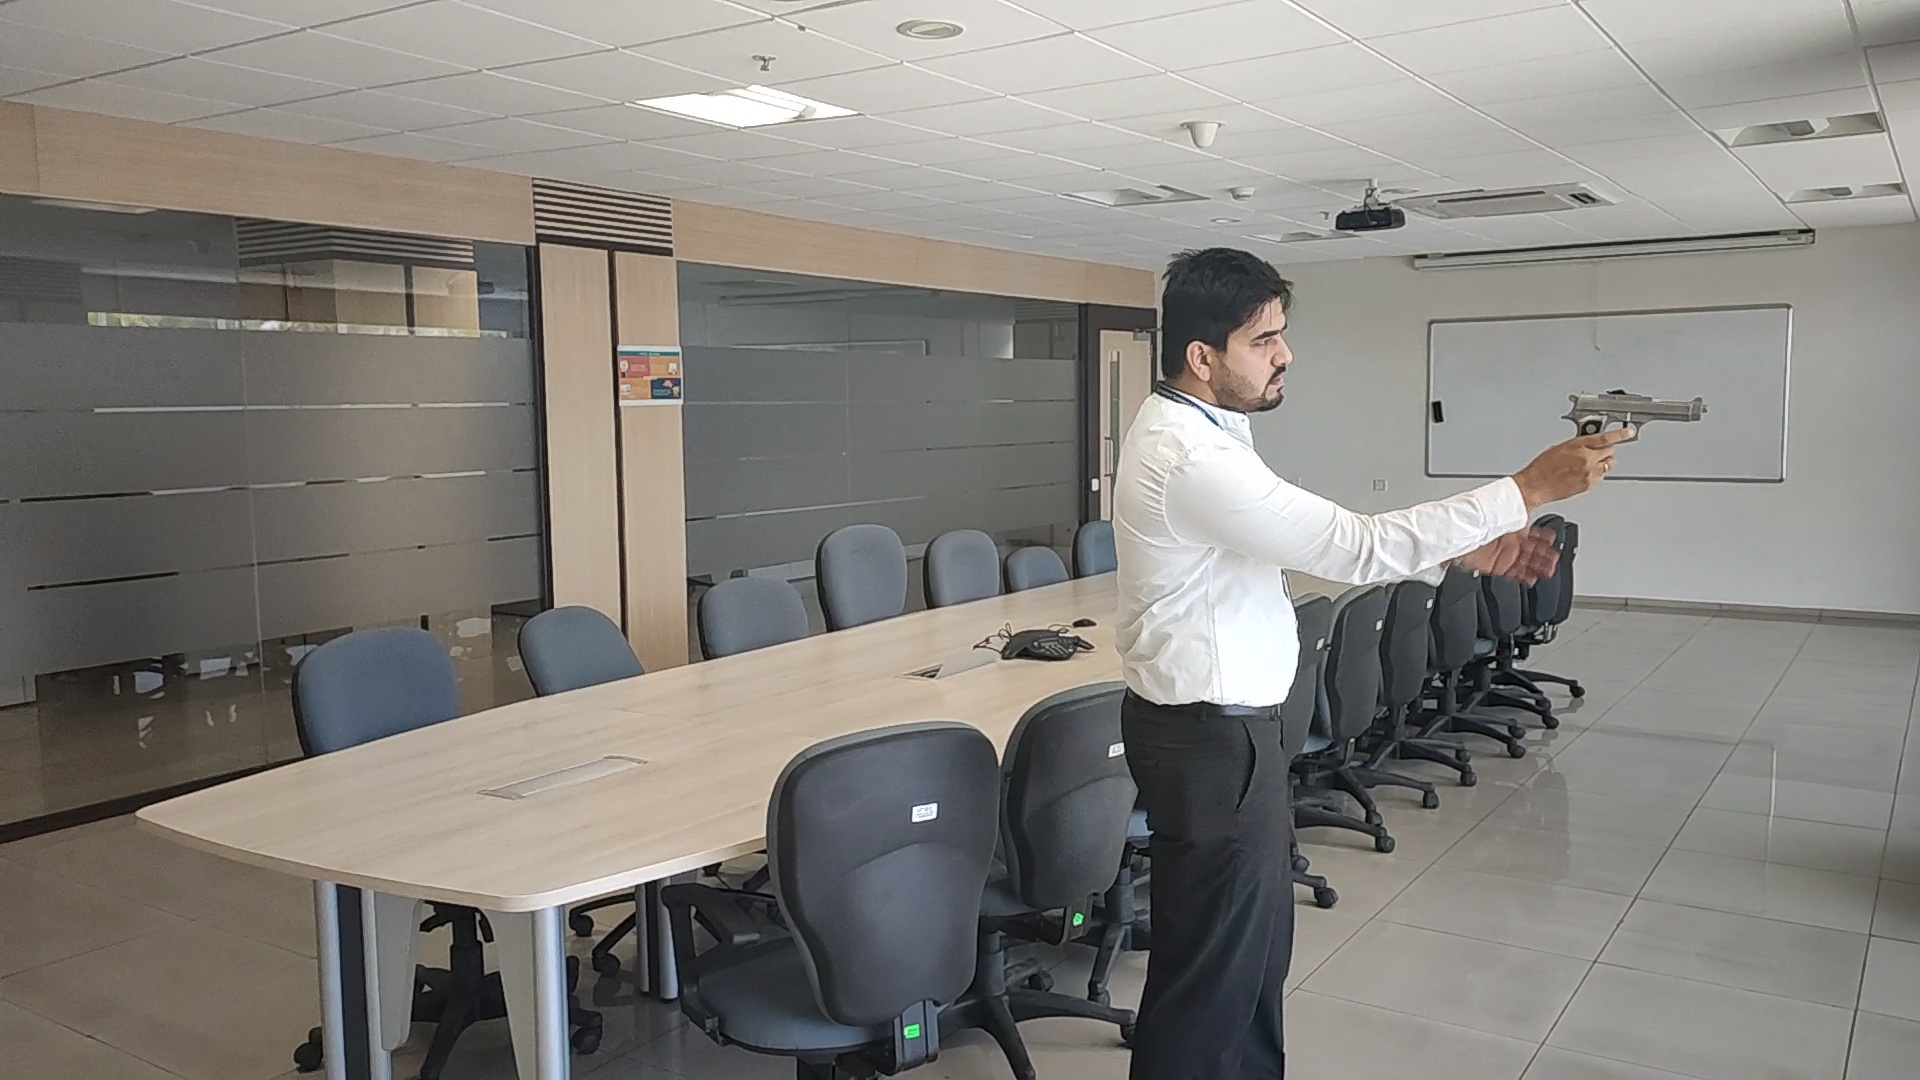gun: (1559, 389, 1710, 429)
